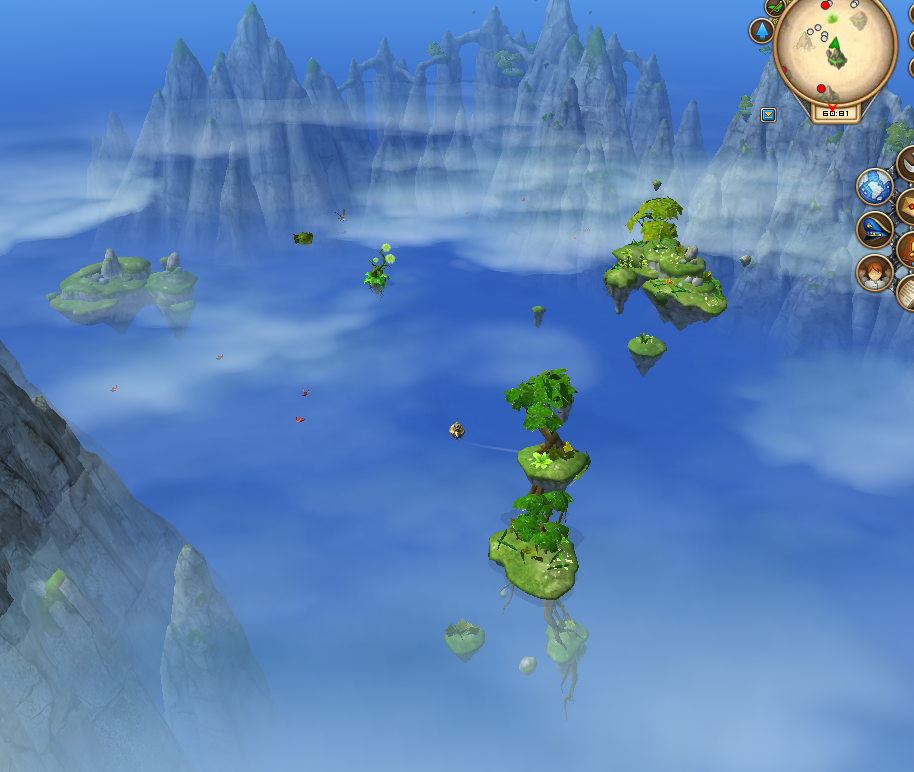dandelion-full: (358, 236, 398, 298)
